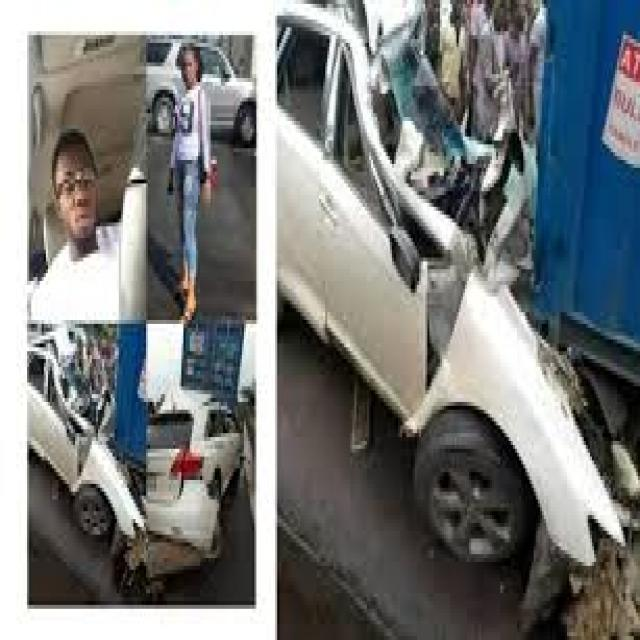accident: (286, 0, 640, 595), (26, 323, 256, 604)
